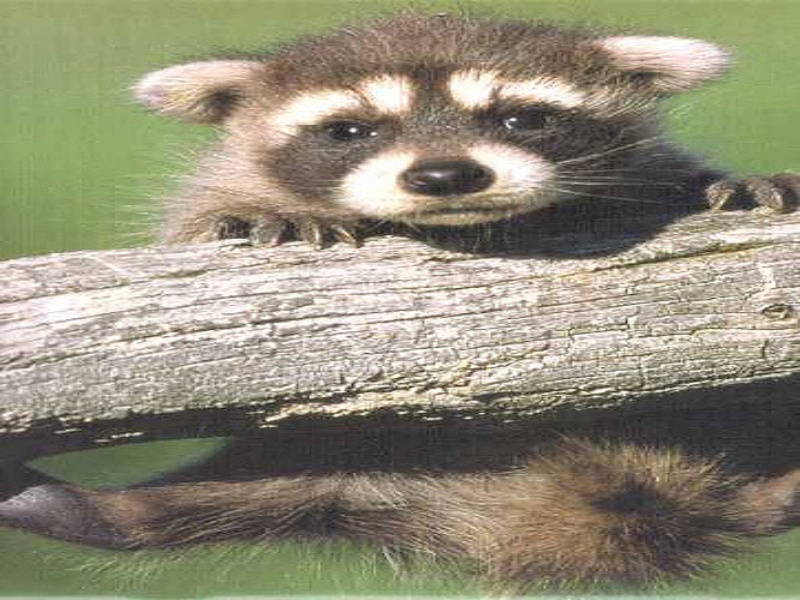raccoon: (14, 13, 792, 590)
